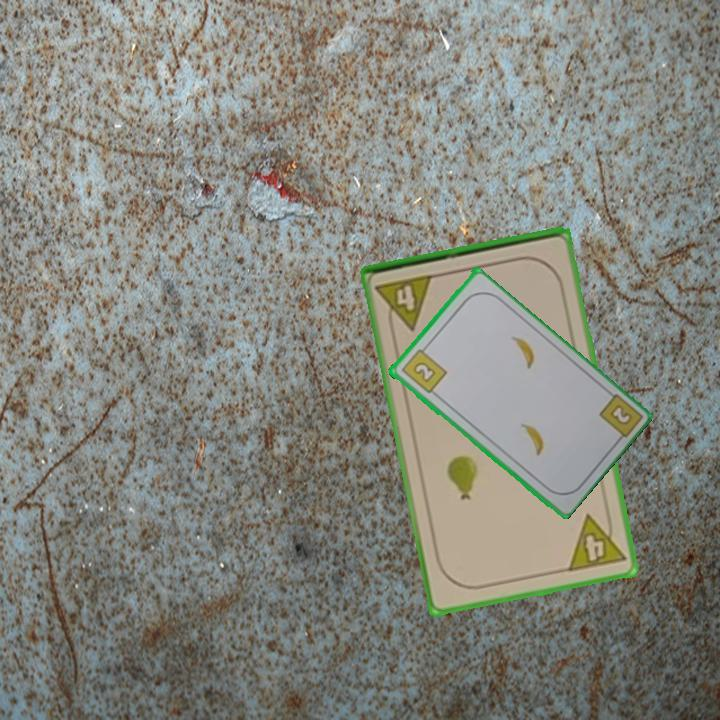2b: (397, 342, 449, 396), (606, 401, 632, 426)
4p: (564, 507, 628, 575), (372, 271, 437, 336)
